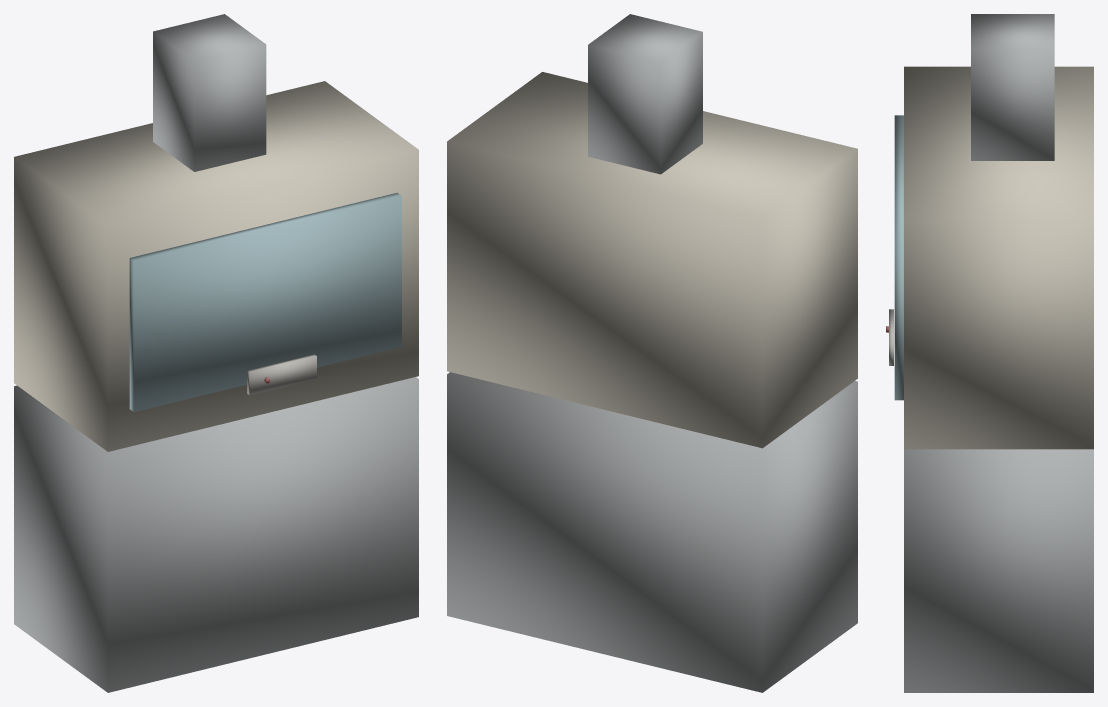
File: fume_hood__tall.glb
3 views of the same model, side by side, from view 1: azimuth 30°, elevation 25°; view 2: azimuth 150°, elevation 25°; view 3: azimuth 270°, elevation 25° (orthographic).
Visible parts, largest first — view 1: world; view 2: world; view 3: world.
Boxes of the visible parts, x1,y1,x2,y2 form: world: [14, 14, 418, 692]; world: [447, 14, 857, 692]; world: [886, 14, 1093, 692].
Size of the model in its own units: 1.3 by 2.31 by 0.7435.
